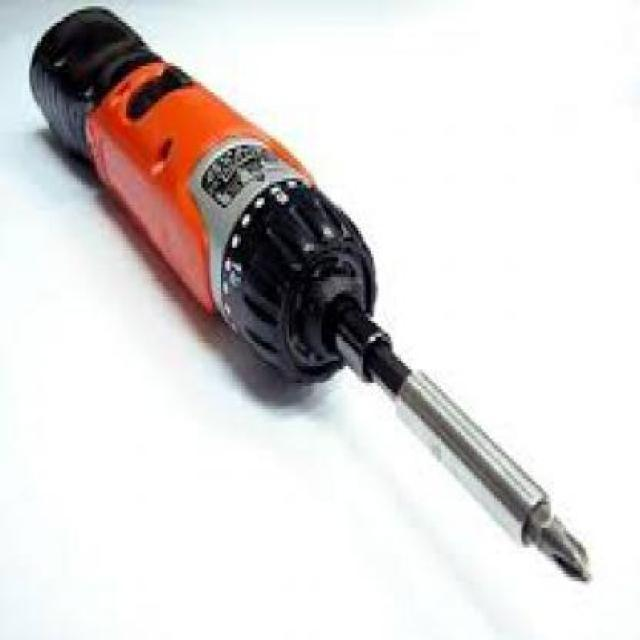screwdriver: (29, 6, 596, 594)
